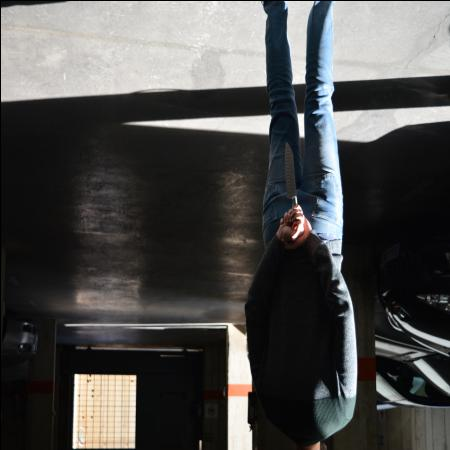long weapon: (282, 137, 300, 215)
